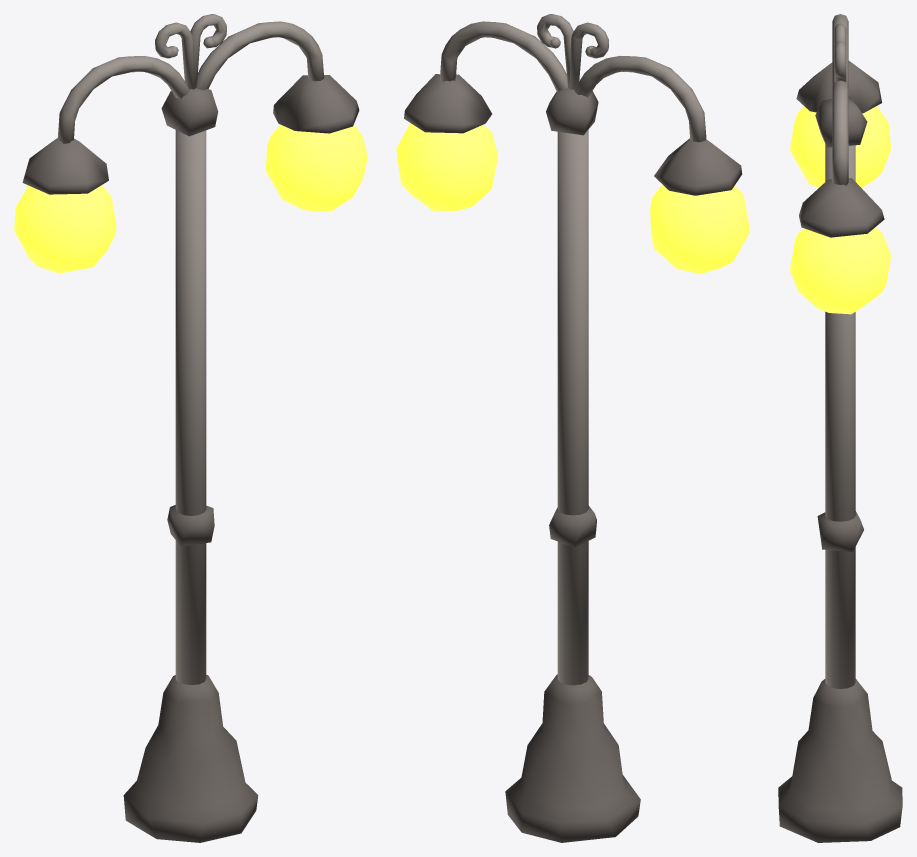
The model's file is lamp-post.glb.
3 renders of one model, left to right at view 1: azimuth 30°, elevation 25°; view 2: azimuth 150°, elevation 25°; view 3: azimuth 270°, elevation 25°, orthographic.
Visible parts, largest first — view 1: body; view 2: body; view 3: body.
Part boxes in pixels (x1=…): body: x1=14, y1=14, x2=367, y2=842; body: x1=396, y1=14, x2=749, y2=842; body: x1=778, y1=14, x2=902, y2=842.
Size of the model in its own units: 1.22 by 2.73 by 0.3923.
